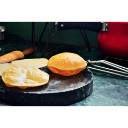poori: (1, 67, 49, 88), (47, 51, 86, 76)
